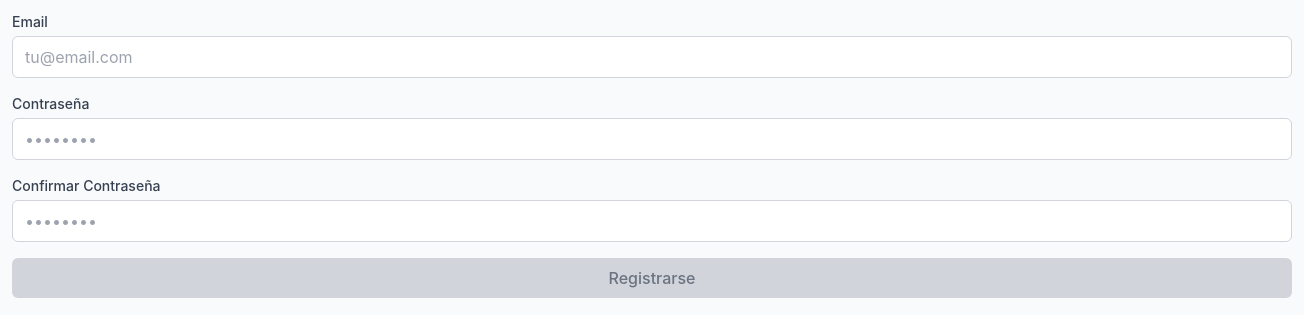
Test: RegisterForm › should show loading state during submission
Type "newuser@example.com" into the field labelled "Email".
click(652, 57); type("newuser@example.com")  # box [12,36,1292,78]
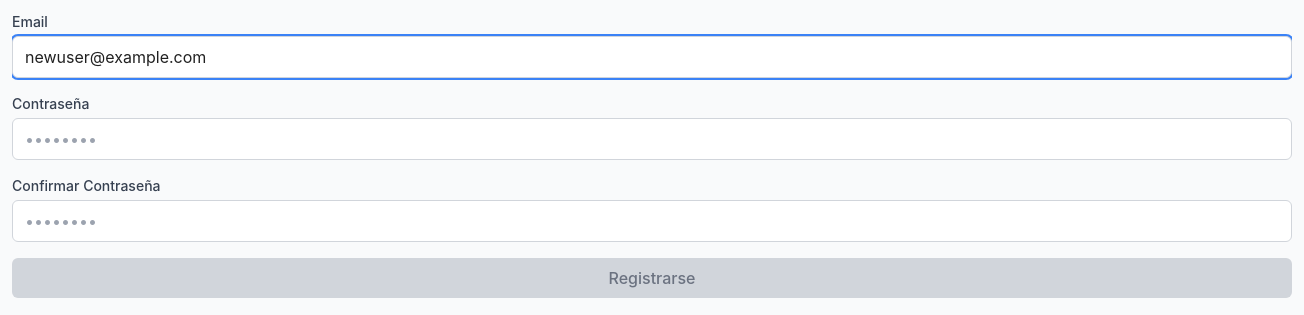
Type "Password123" into the password field labelled "Contraseña".
click(652, 139); type("Password123")  # box [12,118,1292,160]
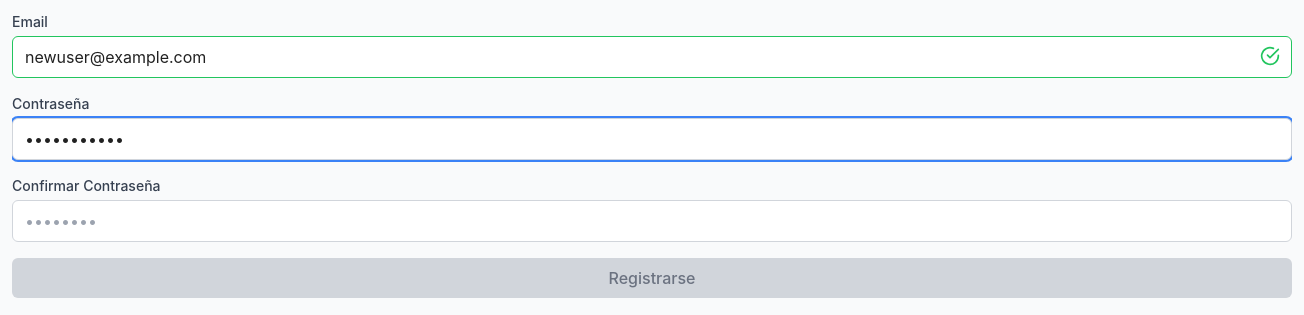
Type "Password123" into the password field labelled "Confirmar Contraseña".
click(652, 221); type("Password123")  # box [12,200,1292,242]
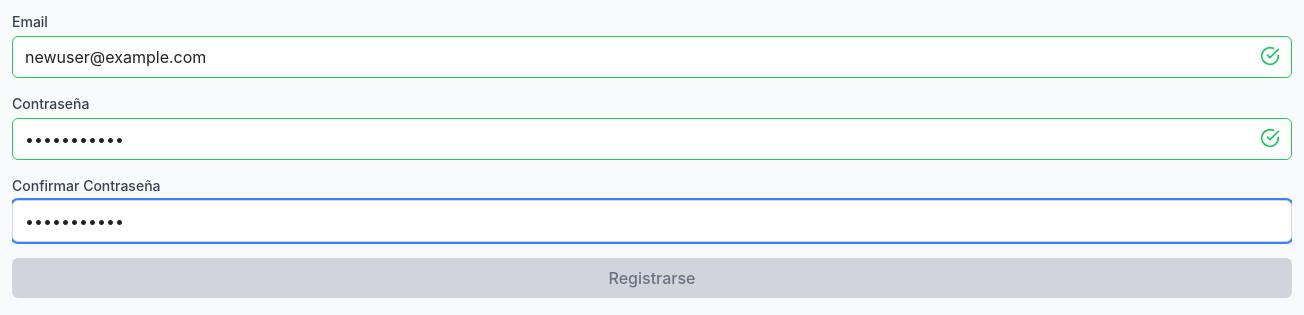
// Trigger blur to validate
Press Tab
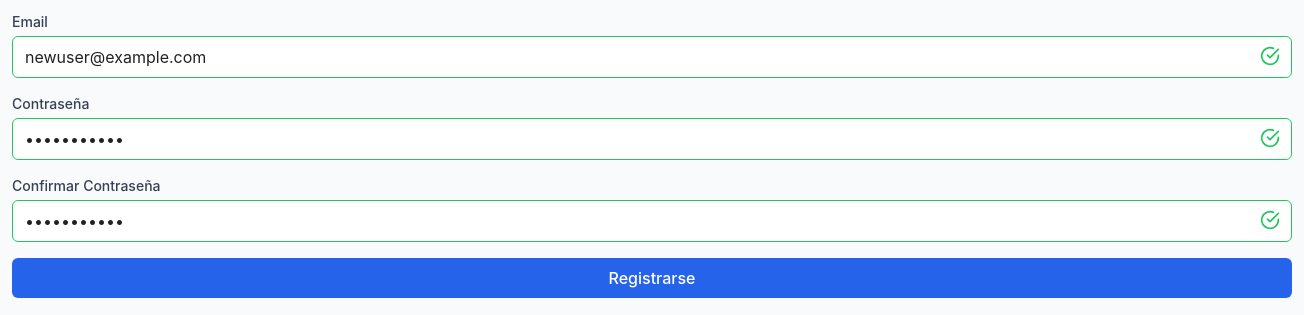
Press Tab
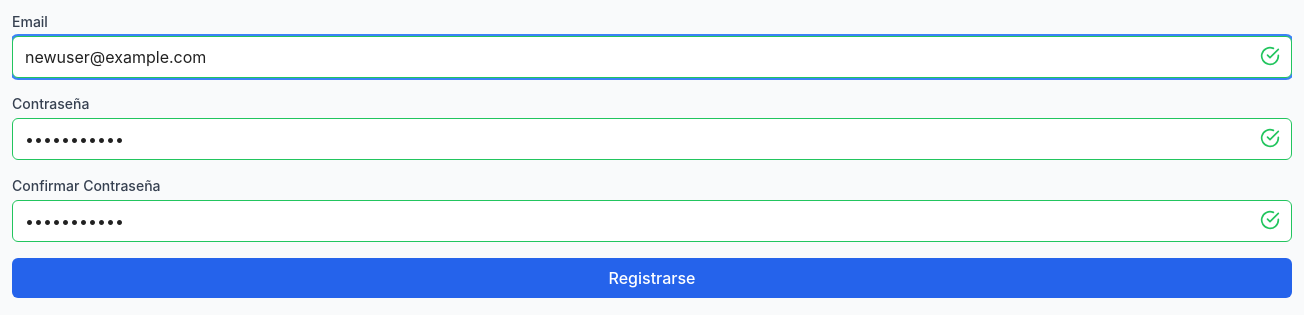
Expected: the button "Registrarse" is enabled
Click the button "Registrarse".
click(652, 278)  # box [12,258,1292,298]
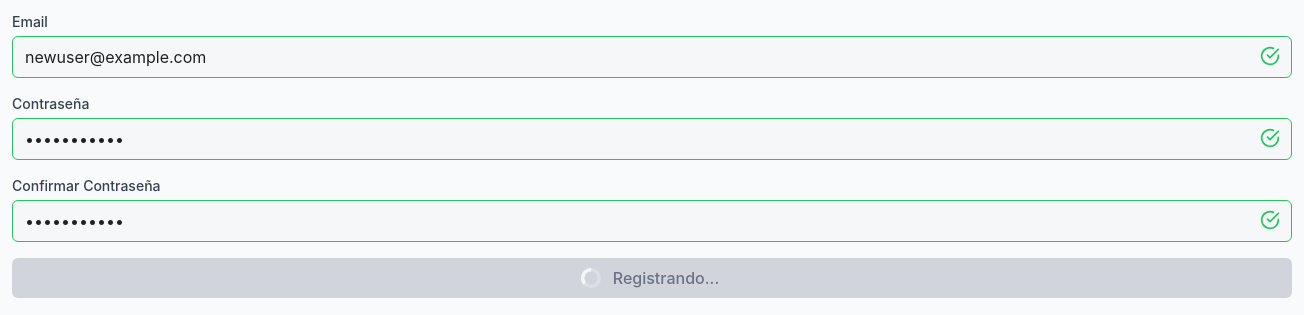
Expected: the text "Registrando..." is shown, [581,268,719,288]
